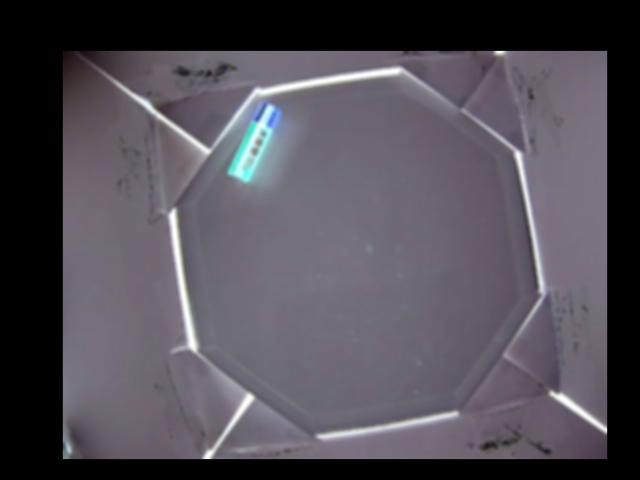Battery: (227, 101, 283, 184)
